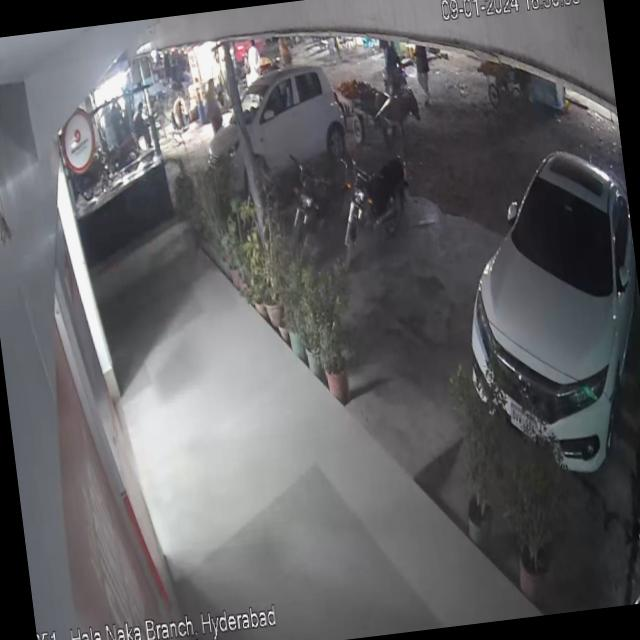Car: (443, 124, 640, 503), (198, 60, 370, 203)
Motorcycle: (334, 137, 422, 276), (272, 137, 356, 258)
